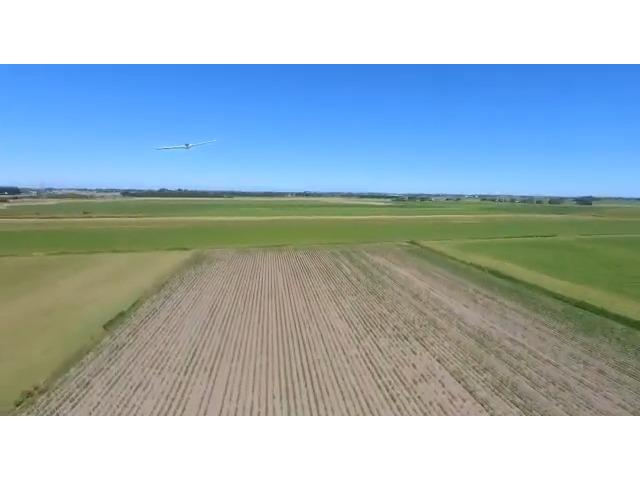Anti-Drone: (152, 130, 224, 167)
